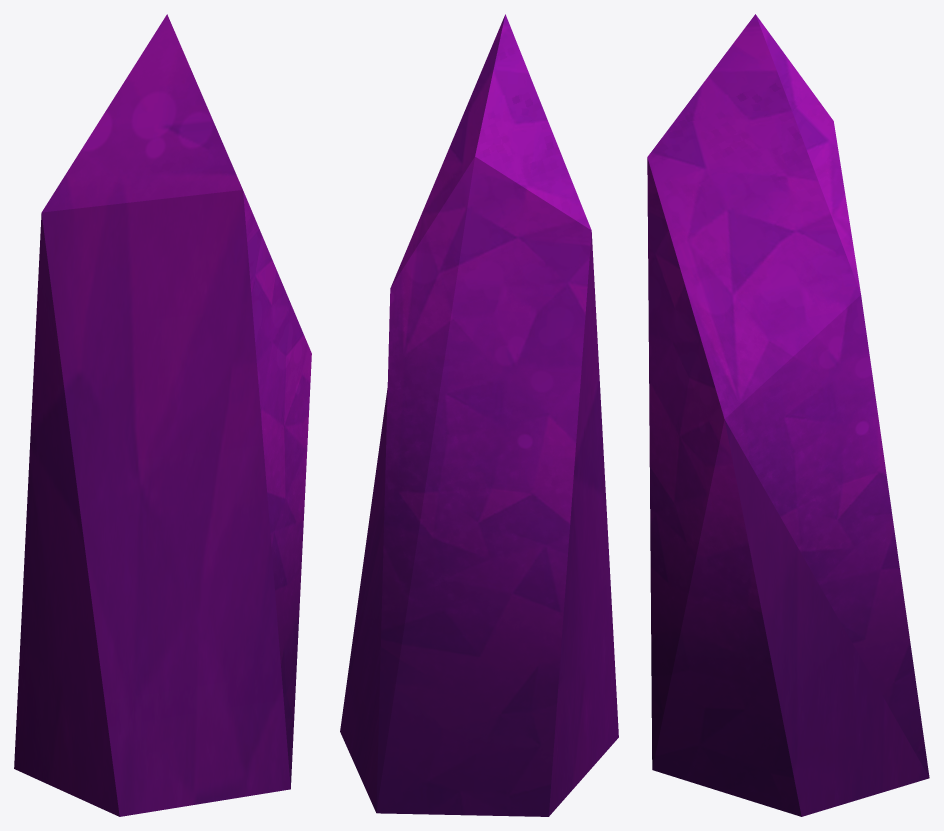
File: P_CRYSTAL FRAGMENT 3.fbx
3 renders of one model, left to right at view 1: azimuth 30°, elevation 25°; view 2: azimuth 150°, elevation 25°; view 3: azimuth 270°, elevation 25°, orthographic. The views are drawn at different scales.
Visible parts, largest first — view 1: Crystal Fragment_3.001; view 2: Crystal Fragment_3.001; view 3: Crystal Fragment_3.001.
Boxes of the visible parts, left/top/right/bottom form: Crystal Fragment_3.001: left=14, top=14, right=311, bottom=816; Crystal Fragment_3.001: left=340, top=14, right=618, bottom=816; Crystal Fragment_3.001: left=647, top=14, right=929, bottom=816.
Size of the model in its own units: 98.23 by 285 by 97.88.
